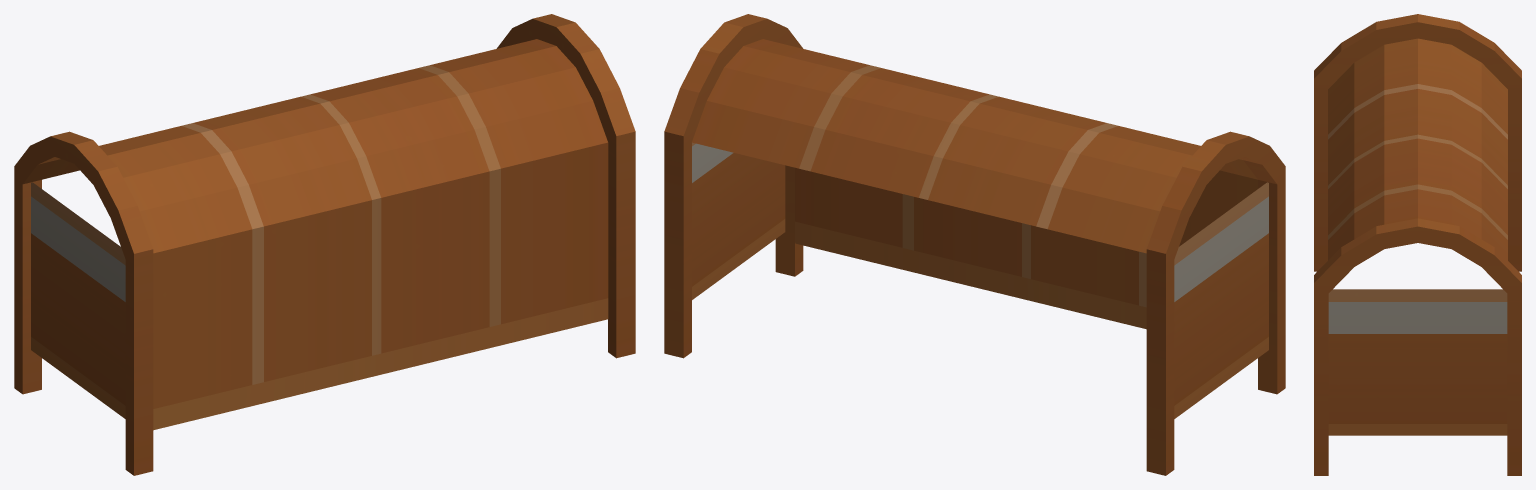
File: SM_Bus_Stop.FBX
3 renders of one model, left to right at view 1: azimuth 30°, elevation 25°; view 2: azimuth 150°, elevation 25°; view 3: azimuth 270°, elevation 25°, orthographic. The views are drawn at different scales.
Visible parts, largest first — view 1: SM_Bus_Stop; view 2: SM_Bus_Stop; view 3: SM_Bus_Stop.
Part boxes in pixels (x1=…): SM_Bus_Stop: x1=14, y1=14, x2=635, y2=475; SM_Bus_Stop: x1=664, y1=14, x2=1285, y2=475; SM_Bus_Stop: x1=1314, y1=14, x2=1521, y2=475.
Size of what is drawn, in the model's own units: 520 by 215 by 285.
